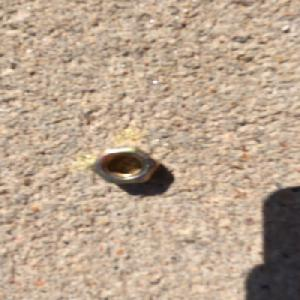Nut: (87, 144, 162, 187)
